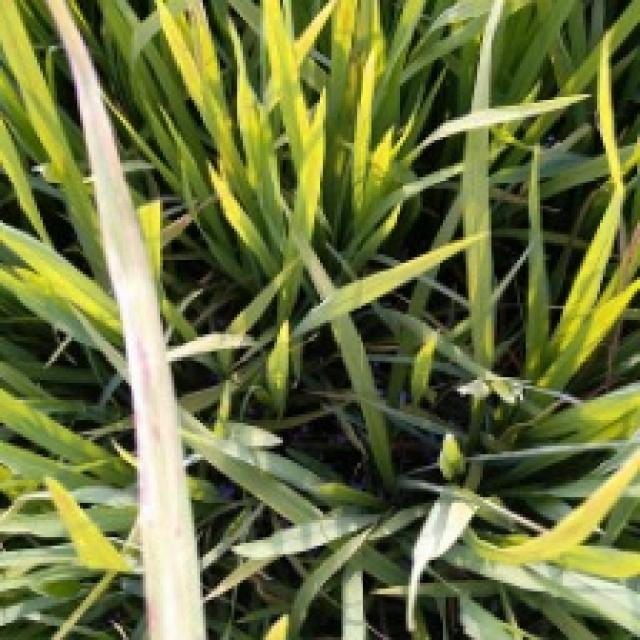Unhealthy: (33, 0, 212, 640)
